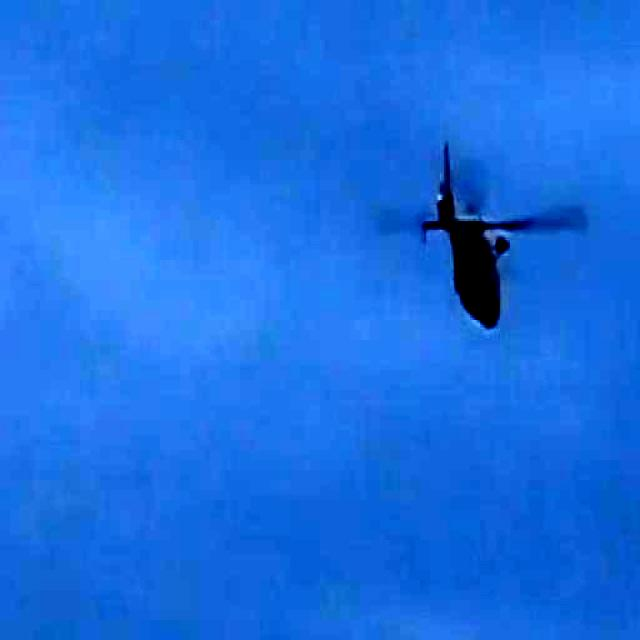drone: (419, 128, 529, 331)
